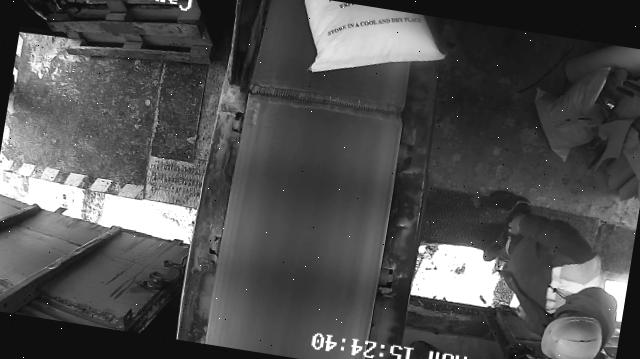bag: (285, 0, 450, 91)
